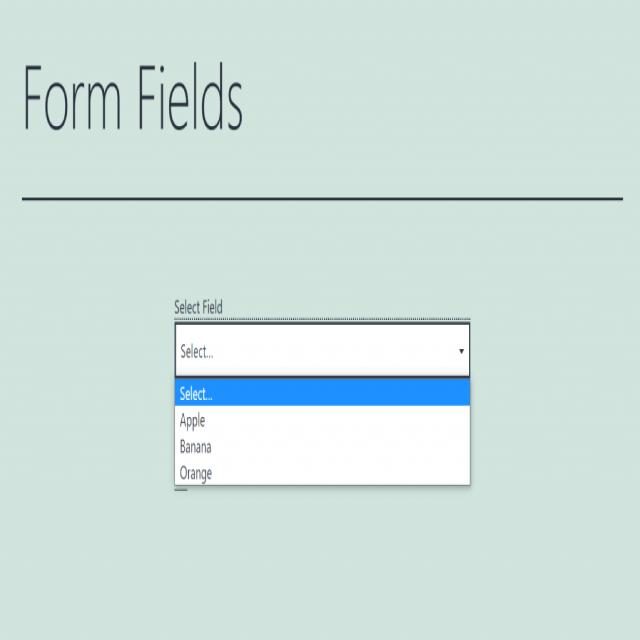dropdown: (458, 347, 464, 357)
input-fields: (175, 323, 470, 376)
text: (26, 50, 242, 149)
